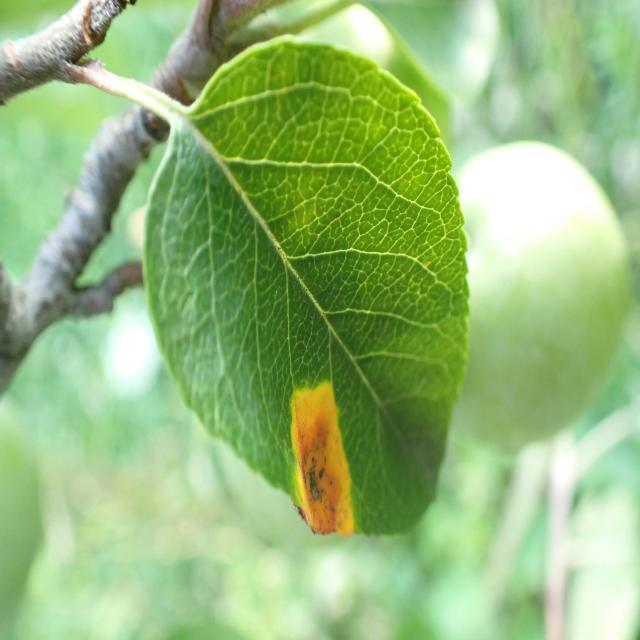Rust: (274, 357, 358, 568)
